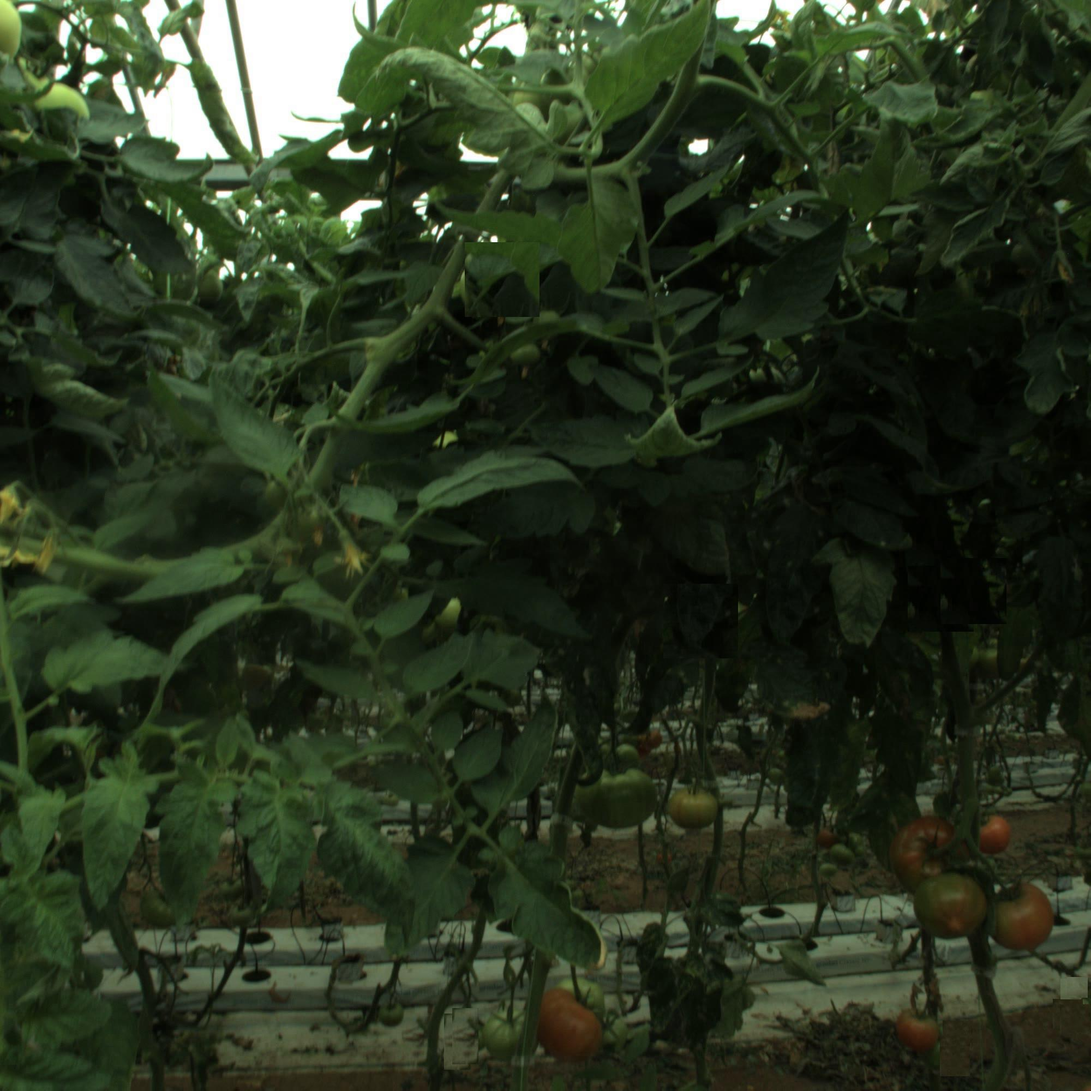fully-ripe: (532, 988, 606, 1062), (893, 1005, 942, 1054), (972, 814, 1013, 855)
semi-ripe: (886, 817, 967, 898), (914, 870, 988, 944), (984, 880, 1056, 952)
unripe: (572, 753, 656, 837), (483, 1006, 543, 1066), (667, 781, 719, 834)
